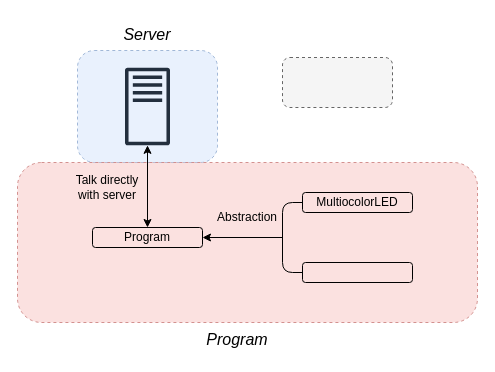
This 495x372 diagram has some shape labels left out. The shapes that lost their labels are listed below. From the top down, each one's centre as x and y in pixels, then its label:
At [337,82]: "Config.json".
At [357,272]: "TempSensor".
